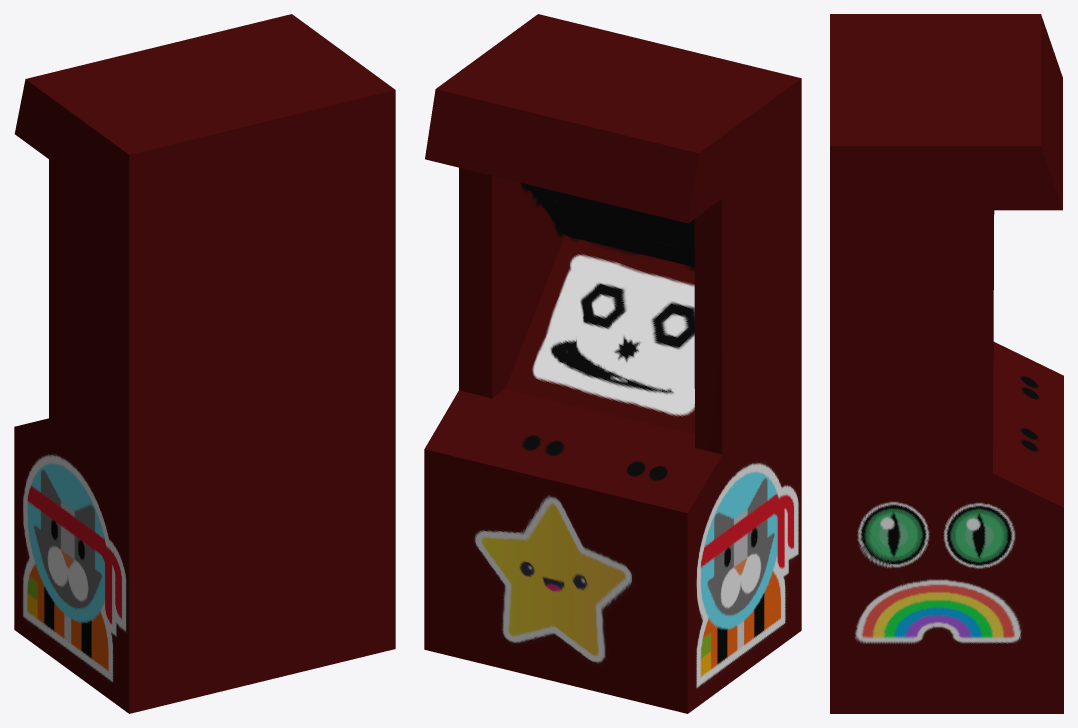
File: ArcadeMachines(B) my version.fbx
3 renders of one model, left to right at view 1: azimuth 30°, elevation 25°; view 2: azimuth 150°, elevation 25°; view 3: azimuth 270°, elevation 25°, orthographic. The views are drawn at different scales.
Visible parts, largest first — view 1: node_id3; view 2: node_id3; view 3: node_id3.
Part boxes in pixels (x1,y1,x2,y2): node_id3: [14, 14, 395, 713]; node_id3: [424, 14, 801, 713]; node_id3: [830, 14, 1063, 713].
Bounding box in the file's own units: 0.2554 × 0.512 × 0.191.
Materials: 1 (1 with a texture image).
